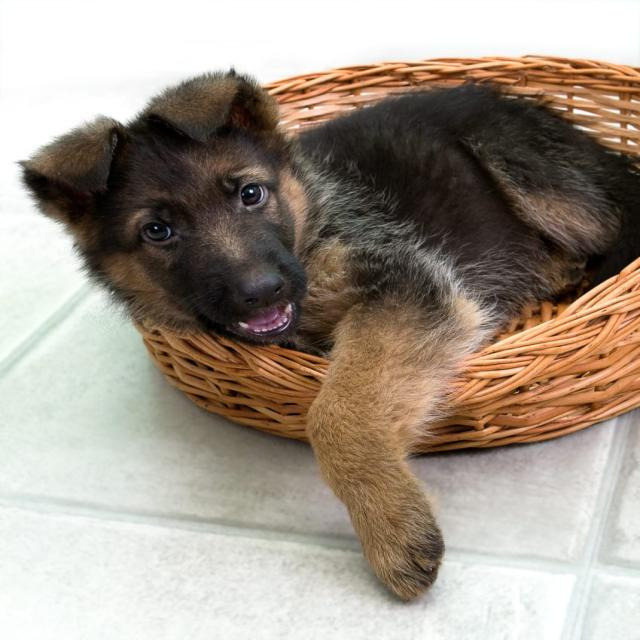GERMAN_SHEPHERD: (6, 53, 640, 607)
